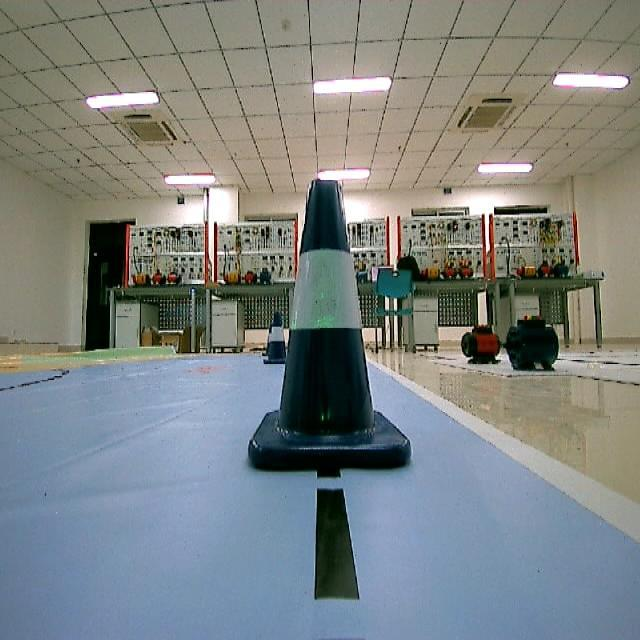obstacle: (225, 177, 416, 478), (255, 308, 292, 373)
